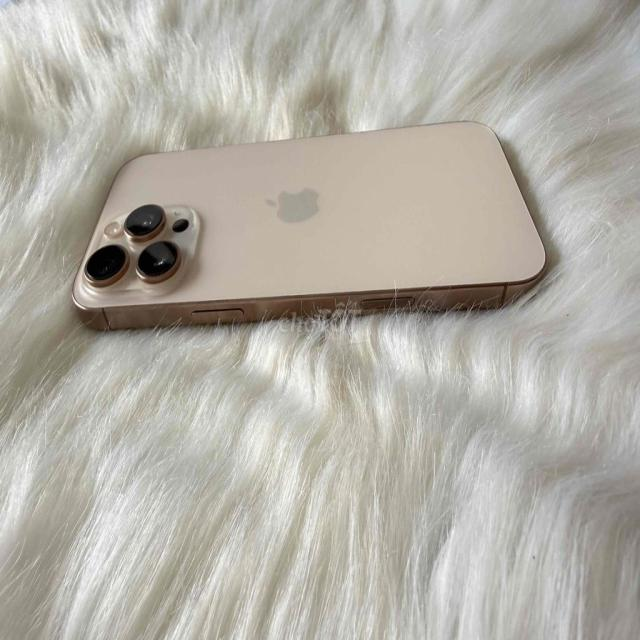gen_16: (72, 122, 546, 329)
